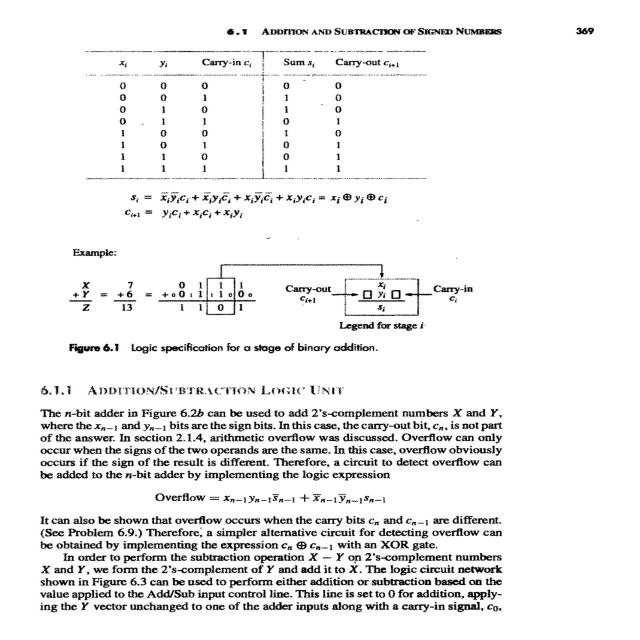diagram: (54, 236, 499, 364)
